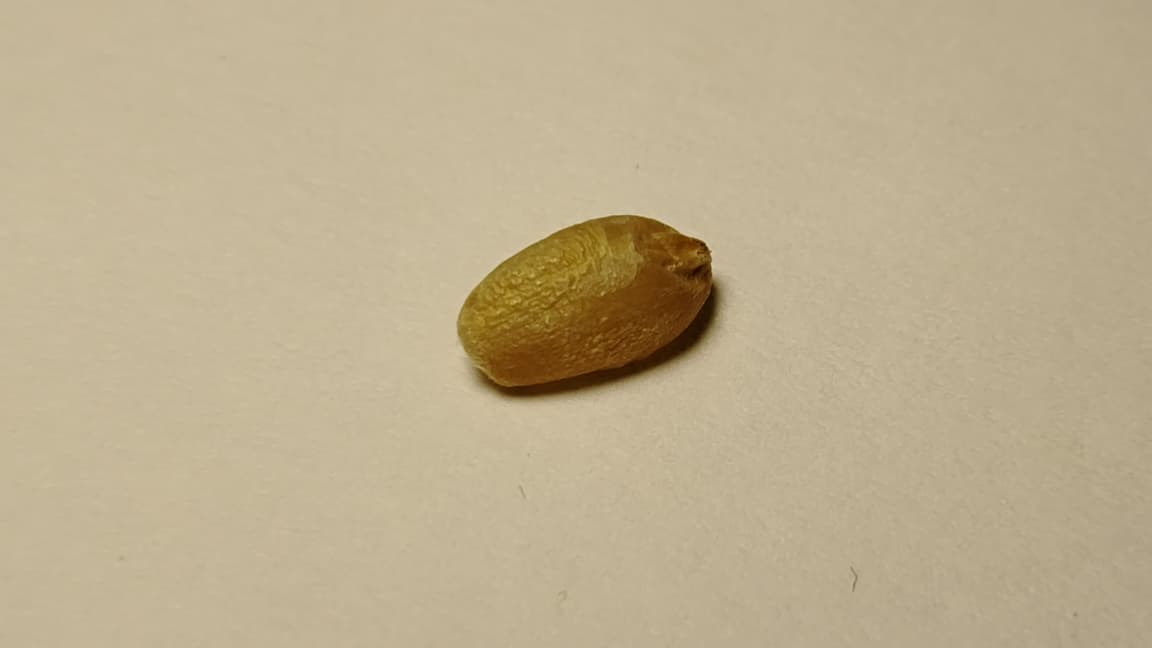healthy: (458, 215, 711, 382)
